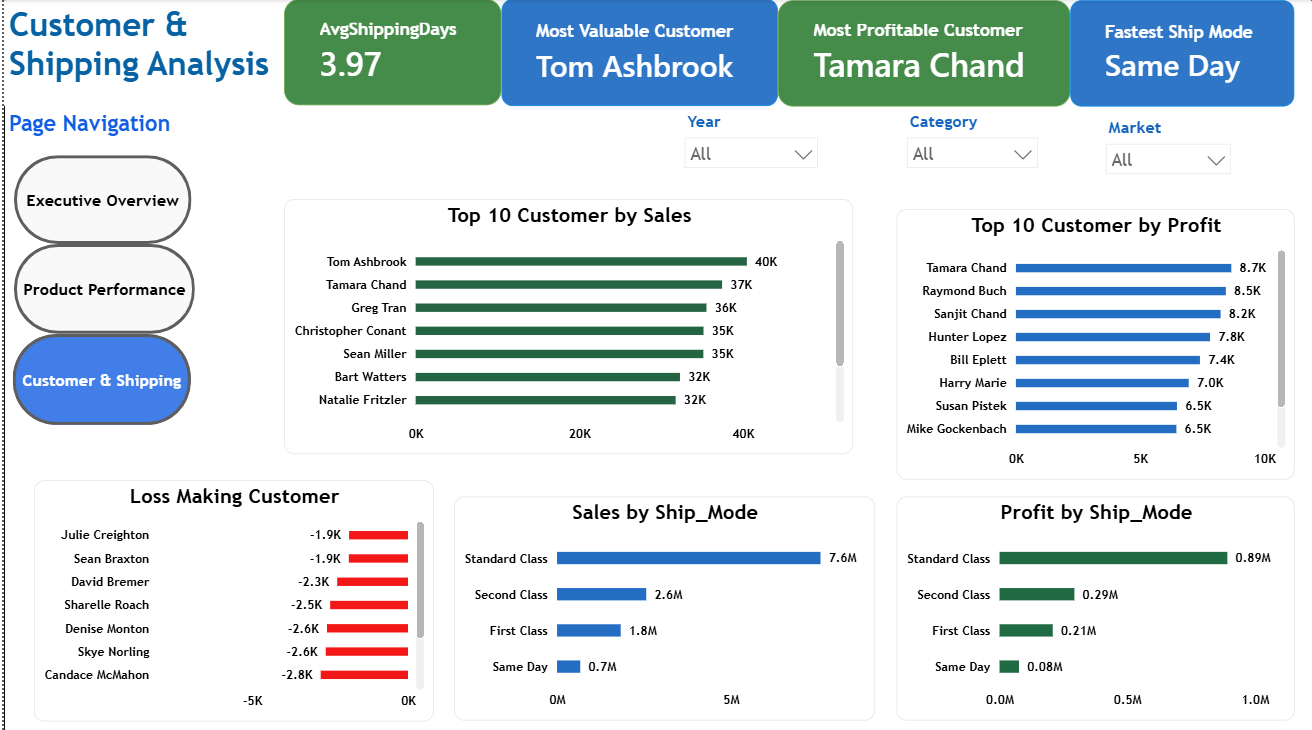

What the dashboard file says about the page in this screenshot:
{"tool":"powerbi","page":{"name":"Customer & Shipping Analysis","canvas":[1280,720],"ordinal":2},"visuals":[{"type":"textbox","box":[0,1.4,274.4,102.9],"z":0},{"type":"clusteredBarChart","title":"Top 10 Customer by Sales","fields":{"Category":["Global_Superstore.Customer_Name"],"Y":["Sum(Global_Superstore.Sales)"]},"box":[274.4,196.2,557.1,249.7],"z":1000},{"type":"clusteredBarChart","title":"Top 10 Customer by Profit","fields":{"Category":["Global_Superstore.Customer_Name"],"Y":["Sum(Global_Superstore.Profit)"]},"box":[872.7,205.8,389.7,264.8],"z":2000},{"type":"clusteredBarChart","title":"Loss Making Customer","fields":{"Category":["Global_Superstore.Customer_Name"],"Y":["Sum(Global_Superstore.Profit)"]},"box":[28.8,470.7,391.1,236],"z":3000},{"type":"clusteredBarChart","title":" Sales by Ship_Mode","fields":{"Category":["Global_Superstore.Ship_Mode"],"Y":["Sum(Global_Superstore.Sales)"]},"box":[440.5,487.1,411.7,219.6],"z":4000},{"type":"clusteredBarChart","title":" Profit by Ship_Mode","fields":{"Category":["Global_Superstore.Ship_Mode"],"Y":["Sum(Global_Superstore.Profit)"]},"box":[872.7,487.1,389.7,219.6],"z":5000},{"type":"cardVisual","fields":{"Data":["Global_Superstore.Most Valuable Customer"]},"box":[486.7,0,270.2,105.2],"z":6000},{"type":"cardVisual","fields":{"Data":["Global_Superstore.Most Profitable Customer"]},"box":[756.9,1.2,286.1,103.9],"z":7000},{"type":"cardVisual","fields":{"Data":["Global_Superstore.Fastest Ship Mode"]},"box":[1043.1,1.2,218.9,103.9],"z":8000},{"type":"slicer","title":"Year","fields":{"Values":["Global_Superstore.Order_Date.Variation.Date Hierarchy.Year"]},"box":[655.9,105.7,150.9,70],"z":9000},{"type":"slicer","title":"Market","fields":{"Values":["Global_Superstore.Market"]},"box":[1067.6,111.1,142.7,60.4],"z":10000},{"type":"slicer","title":"Category","fields":{"Values":["Global_Superstore.Category"]},"box":[872.7,105.7,148.2,70],"z":11000},{"type":"cardVisual","fields":{"Data":["Global_Superstore.AvgShippingDays"]},"box":[273.9,0,212.8,103.9],"z":12000},{"type":"actionButton","box":[9.6,240.1,177,87.8],"z":13000},{"type":"actionButton","box":[8.2,328,174.3,89.2],"z":14000},{"type":"textbox","box":[0,104.3,179.8,37],"z":15000},{"type":"actionButton","box":[9.8,152.9,173.6,86.8],"z":16000}]}

Visuals, with their boxes in screenshot pixels (x1, y1, x2, y2), scaled from the page's 1280x720 canvas onto the 1312x730 screenshot:
textbox: bbox=[0, 1, 281, 106]
"Top 10 Customer by Sales" clusteredBarChart: bbox=[281, 199, 852, 452]
"Top 10 Customer by Profit" clusteredBarChart: bbox=[895, 209, 1294, 477]
"Loss Making Customer" clusteredBarChart: bbox=[30, 477, 430, 717]
" Sales by Ship_Mode" clusteredBarChart: bbox=[452, 494, 874, 717]
" Profit by Ship_Mode" clusteredBarChart: bbox=[895, 494, 1294, 717]
cardVisual - Global_Superstore.Most Valuable Customer: bbox=[499, 0, 776, 107]
cardVisual - Global_Superstore.Most Profitable Customer: bbox=[776, 1, 1069, 107]
cardVisual - Global_Superstore.Fastest Ship Mode: bbox=[1069, 1, 1294, 107]
"Year" slicer: bbox=[672, 107, 827, 178]
"Market" slicer: bbox=[1094, 113, 1241, 174]
"Category" slicer: bbox=[895, 107, 1046, 178]
cardVisual - Global_Superstore.AvgShippingDays: bbox=[281, 0, 499, 105]
actionButton: bbox=[10, 243, 191, 332]
actionButton: bbox=[8, 333, 187, 423]
textbox: bbox=[0, 106, 184, 143]
actionButton: bbox=[10, 155, 188, 243]
